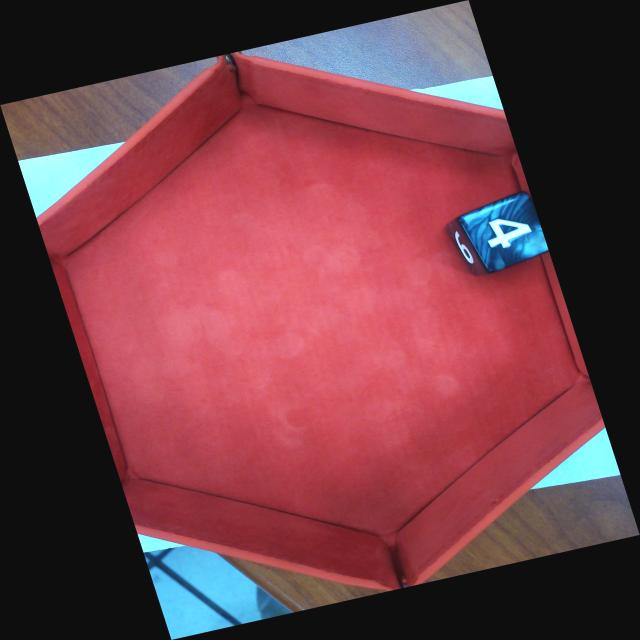dice: (468, 199, 552, 267)
